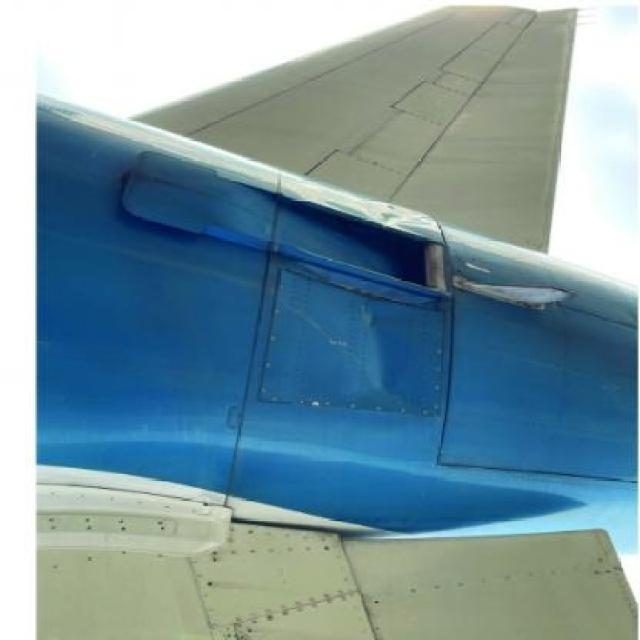dent: (339, 312, 415, 406)
